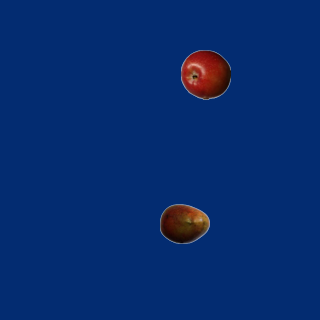Apple Braeburn: (180, 49, 230, 99)
Mango Red: (159, 198, 209, 248)
